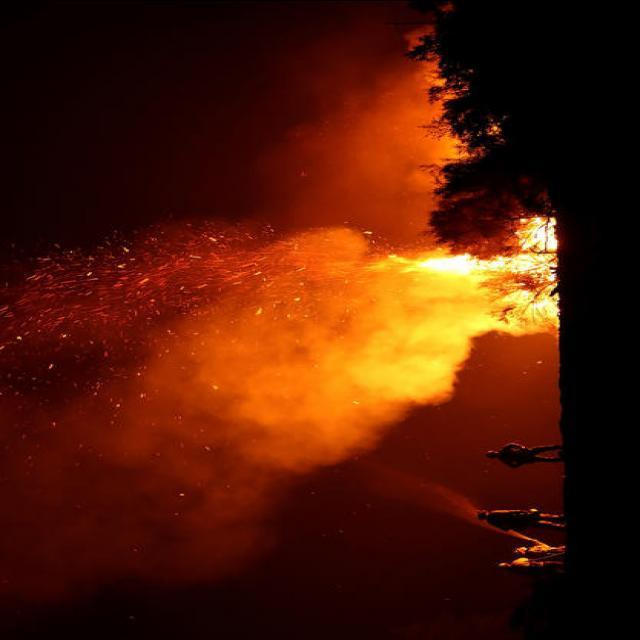Fire: (359, 198, 559, 327)
